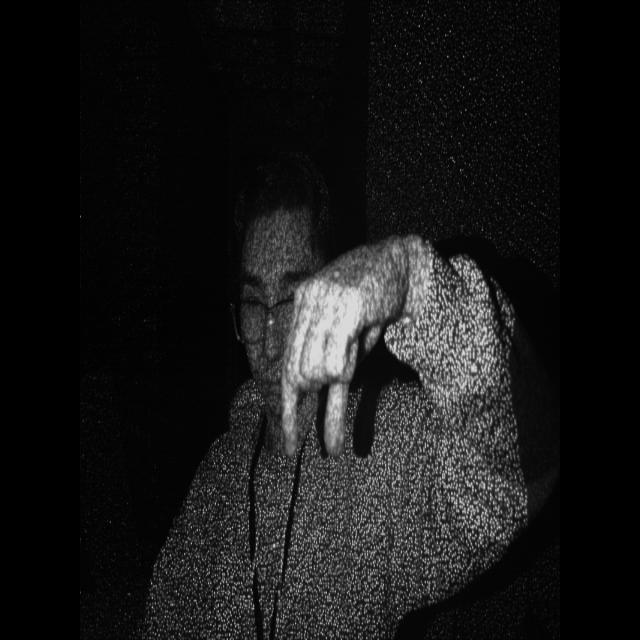Q: (276, 245, 368, 468)
